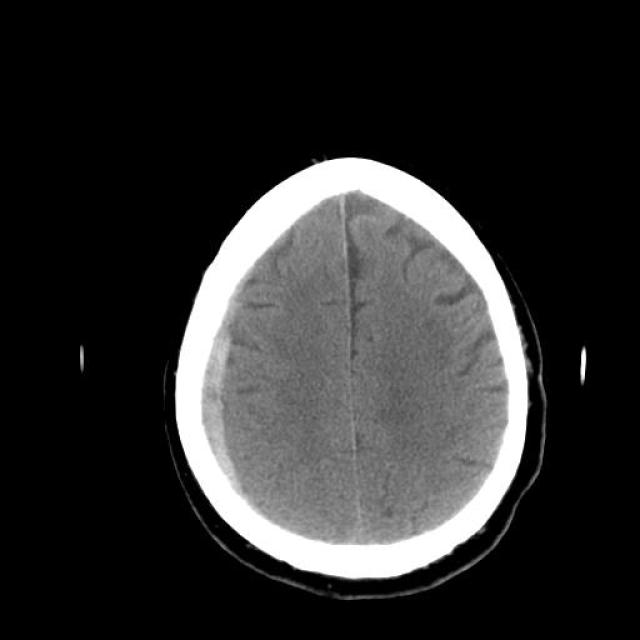Subdural: (159, 235, 280, 559)
